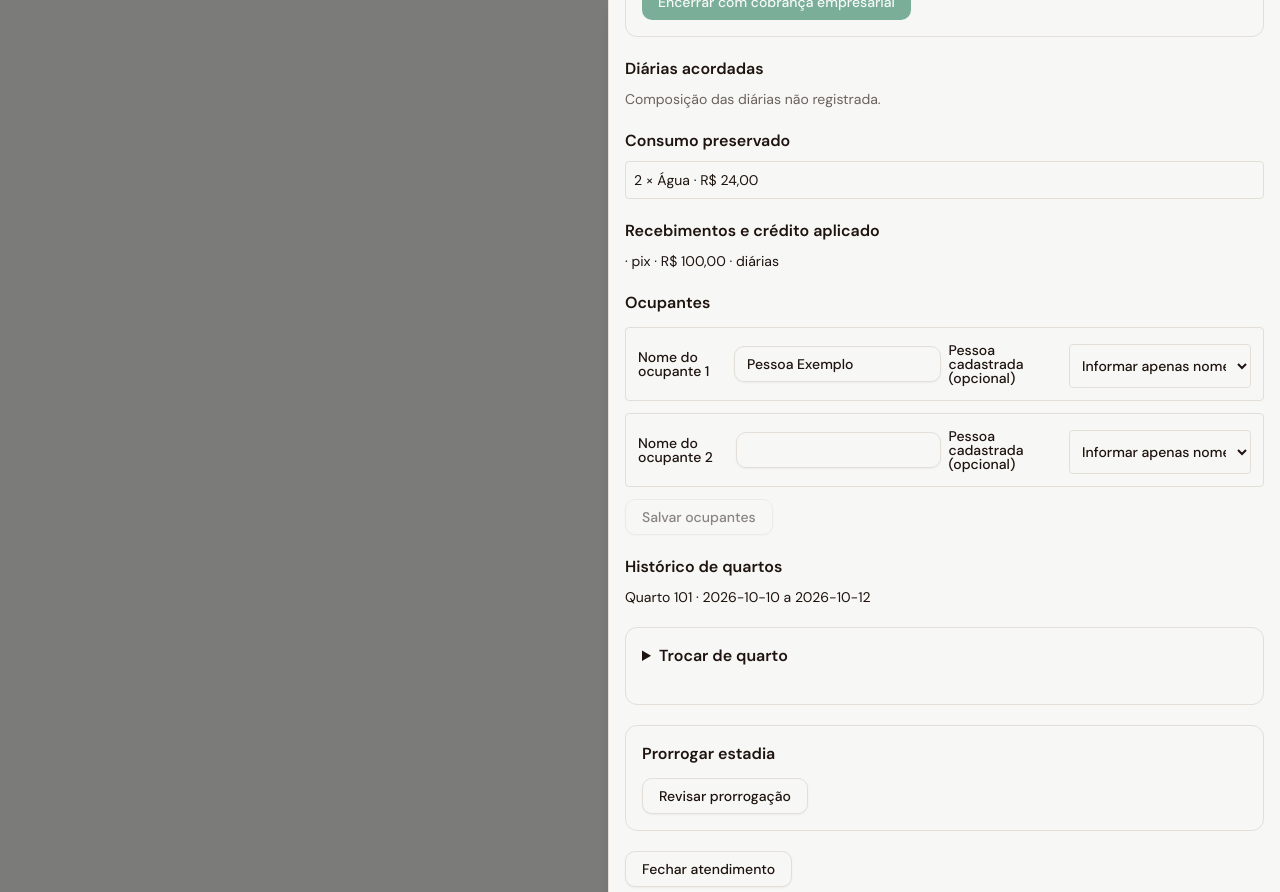
Extrato e saída da hospedagem › mantém ocupantes editados visíveis quando o servidor recusa versão antiga
(page scrolled)
In the field labelled "Nome do ocupante 2": (838, 450) [736, 432, 940, 468], type "Acompanhante"
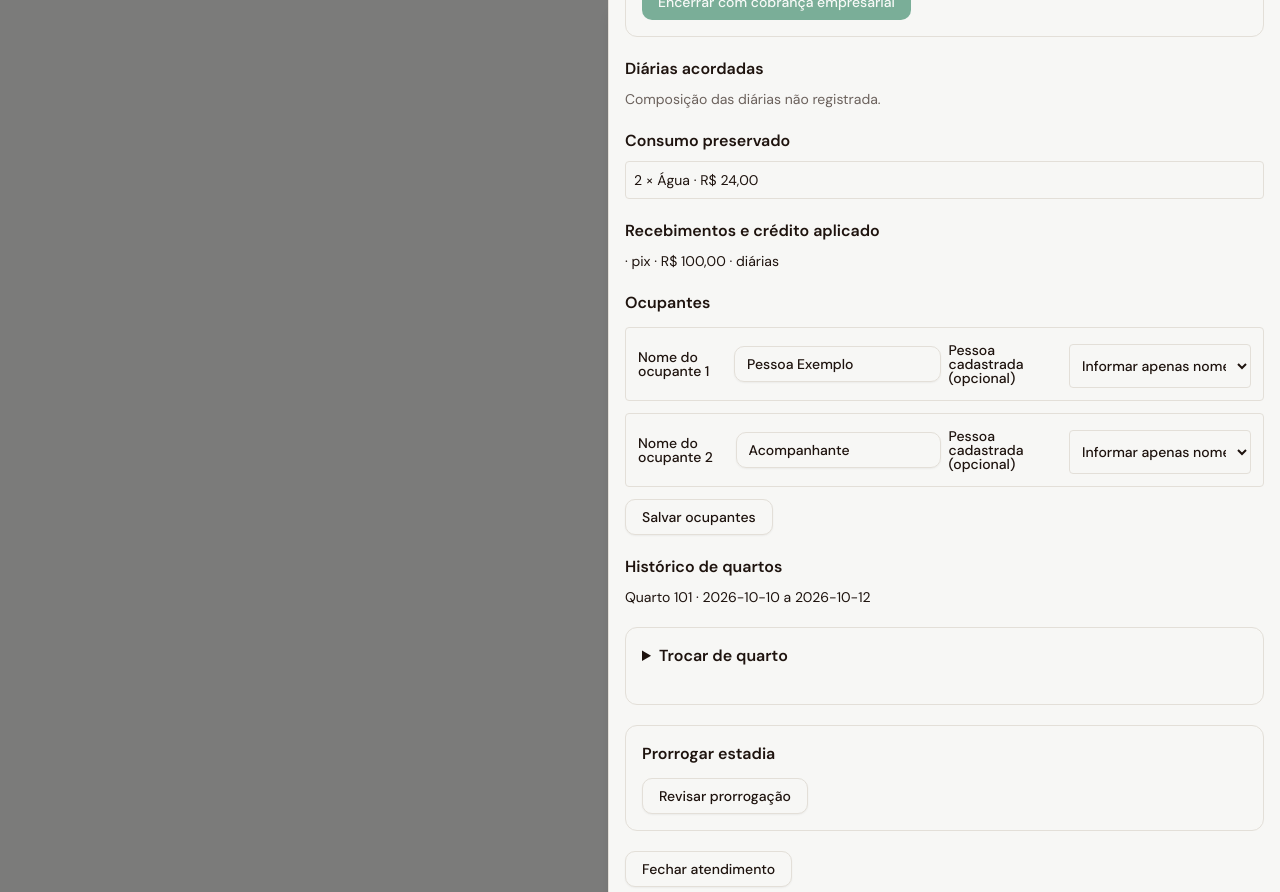
Click the button "Salvar ocupantes": (699, 517) [625, 499, 773, 535]
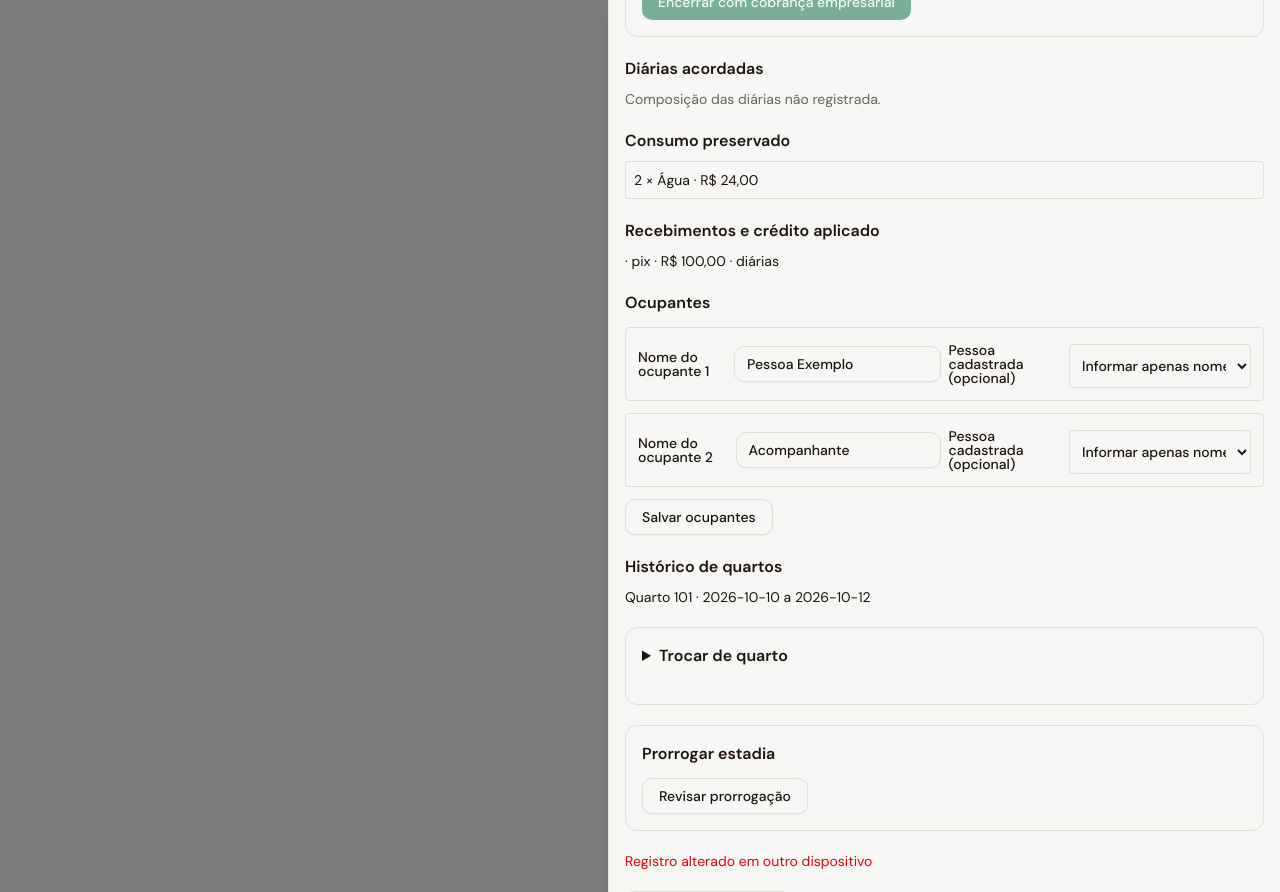
Expected: the message "Registro alterado em outro dispositivo" is shown, [625, 852, 872, 870]
